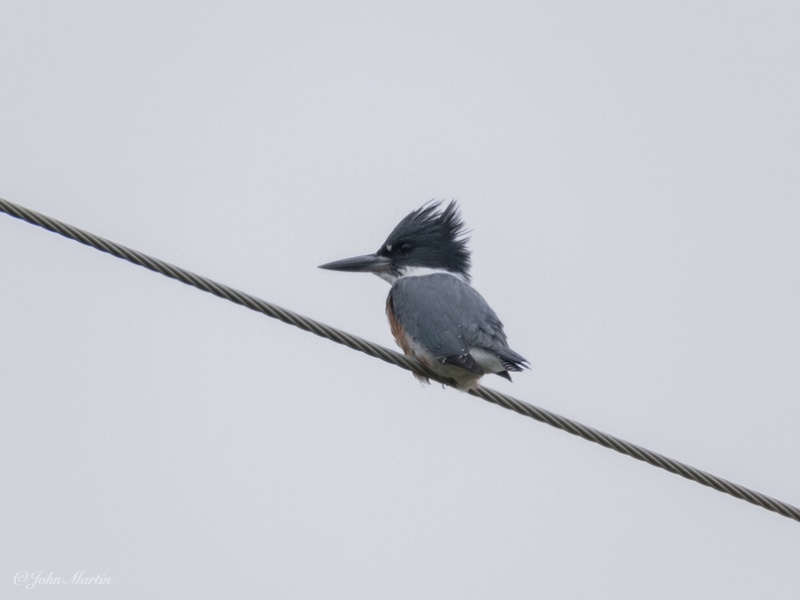kingfisher: (312, 196, 531, 396)
